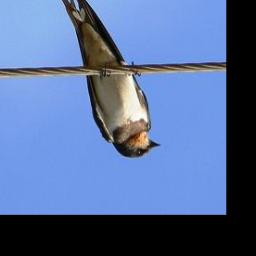Swallow: (59, 0, 162, 160)
